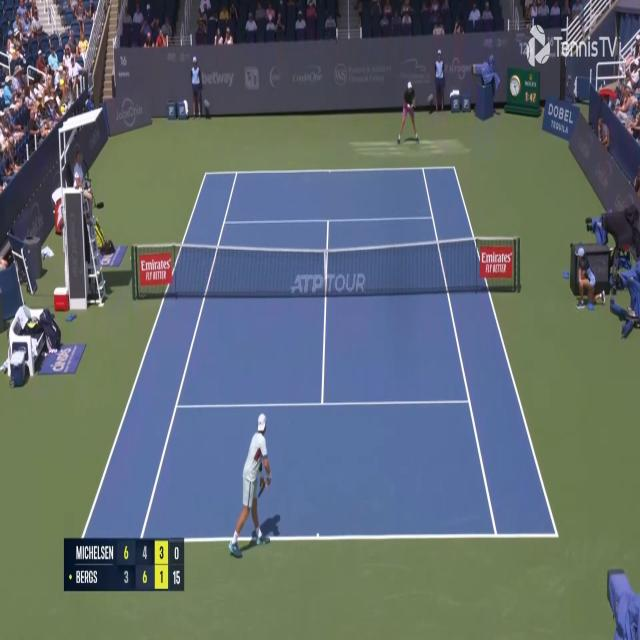tennis-player: (226, 409, 280, 562), (396, 78, 421, 147)
